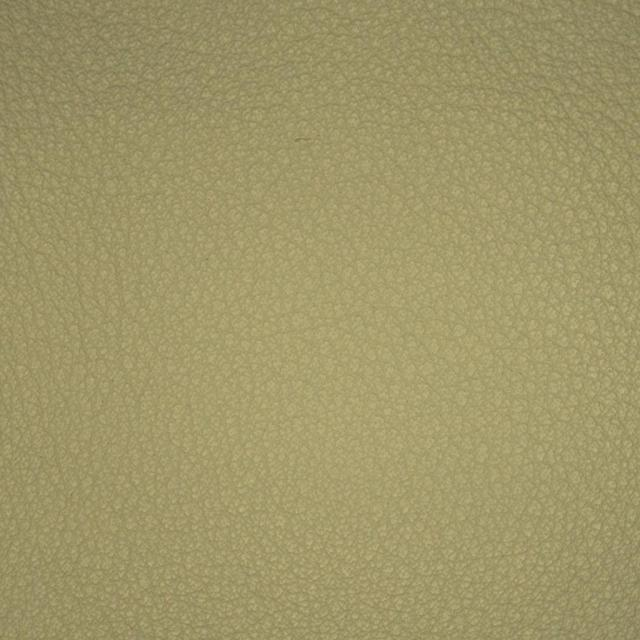Scratch: (234, 102, 380, 186)
